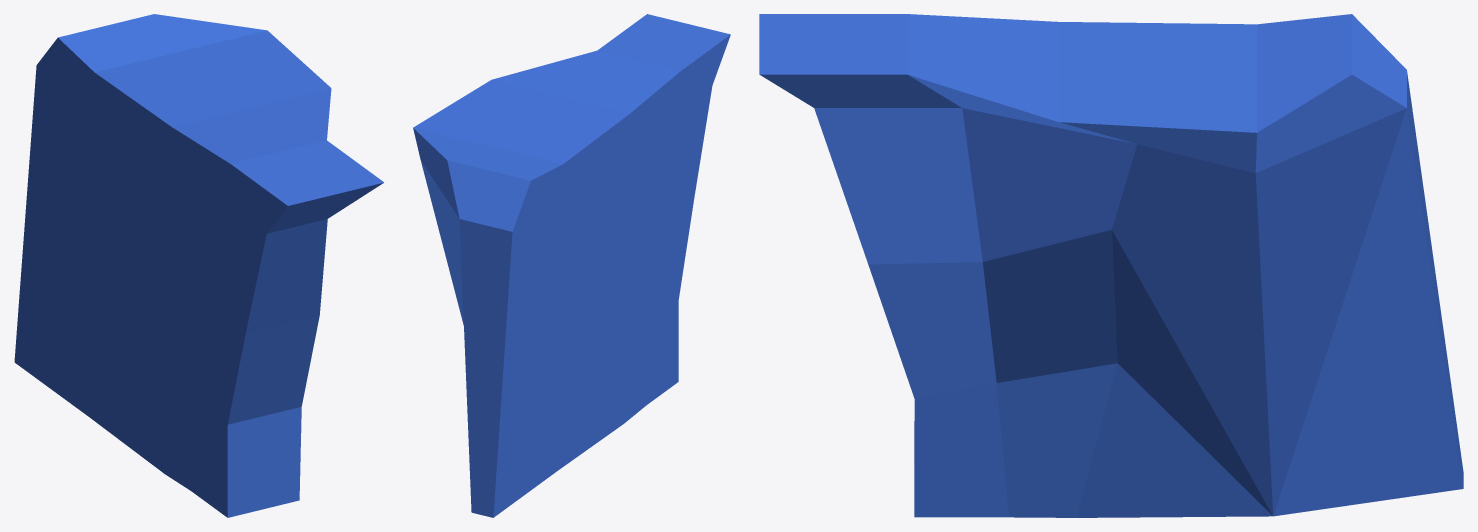
Rendered from Wall_Test.fbx.
The picture shows the model from 3 angles, left to right: view 1: azimuth 30°, elevation 25°; view 2: azimuth 150°, elevation 25°; view 3: azimuth 270°, elevation 25°; orthographic projection. The views are drawn at different scales.
Parts seen in each view (by area): view 1: Cube; view 2: Cube; view 3: Cube.
Part boxes in pixels (box(x1,y1,x2,y2)): Cube: box(14, 14, 383, 517); Cube: box(413, 14, 730, 517); Cube: box(759, 14, 1463, 517).
Size of the model in its own units: 341 by 675 by 934.
